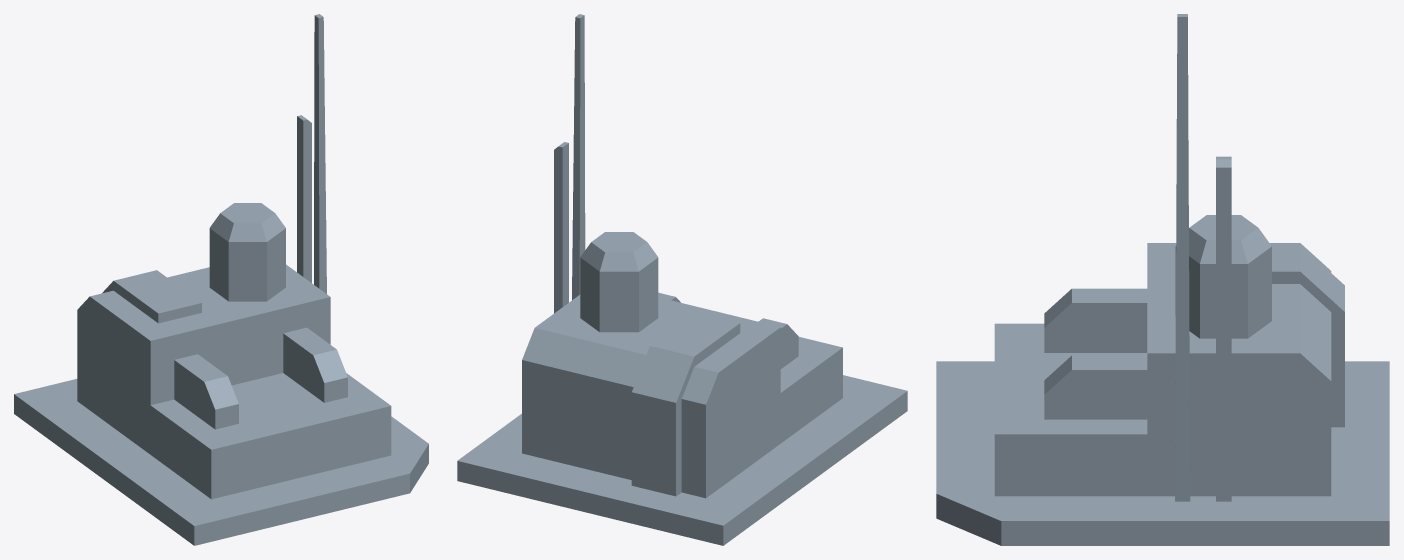
The model's file is stationlarge.glb.
3 renders of one model, left to right at view 1: azimuth 30°, elevation 25°; view 2: azimuth 150°, elevation 25°; view 3: azimuth 270°, elevation 25°, orthographic. The views are drawn at different scales.
Visible parts, largest first — view 1: stationLarge; view 2: stationLarge; view 3: stationLarge.
Part boxes in pixels (bbox=[...]): stationLarge: bbox=[14, 14, 428, 545]; stationLarge: bbox=[457, 14, 907, 545]; stationLarge: bbox=[936, 14, 1389, 545].
Bounding box in the file's own units: 5.5 × 8.15 × 6.6.
